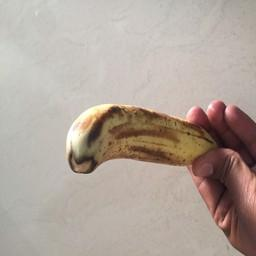Bad_banana: (63, 103, 215, 192)
